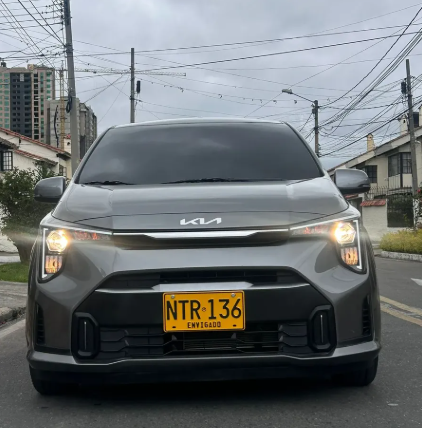placa: (163, 294, 246, 329)
